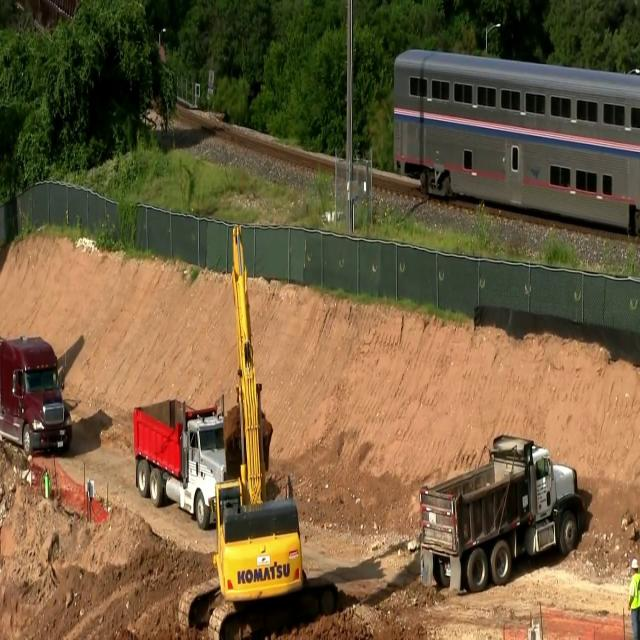excavator: (175, 219, 309, 640)
